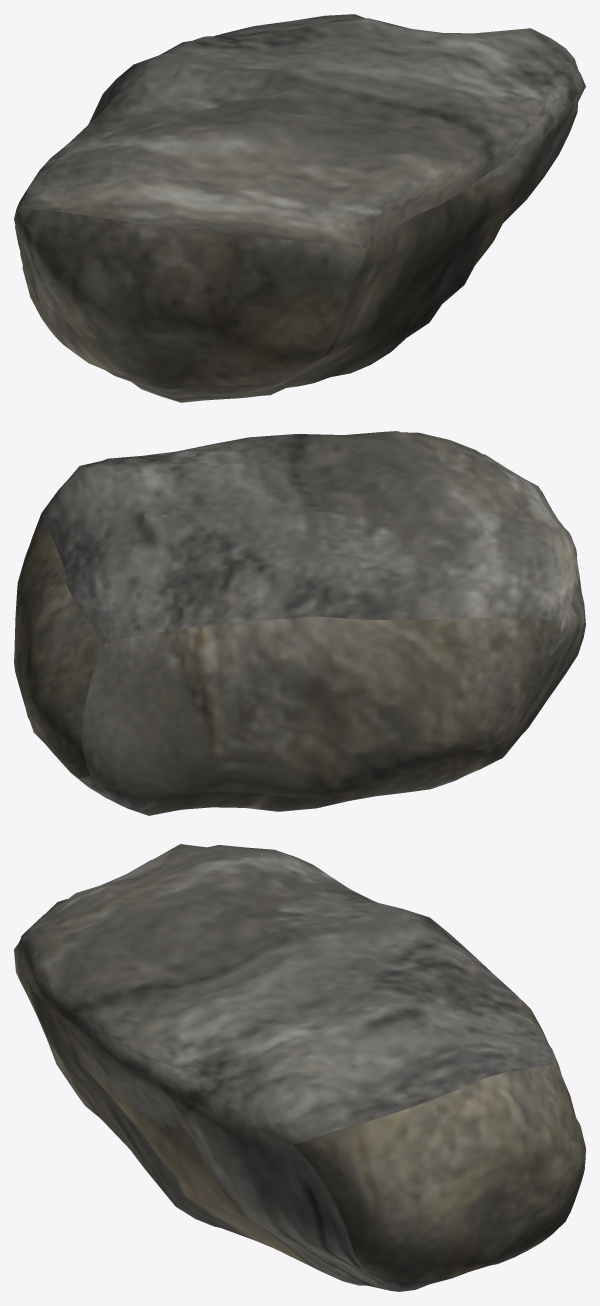
Rendered from Rock1.fbx.
The picture shows the model from 3 angles, top to bottom: view 1: azimuth 30°, elevation 25°; view 2: azimuth 150°, elevation 25°; view 3: azimuth 270°, elevation 25°; orthographic projection. The views are drawn at different scales.
Parts seen in each view (by area): view 1: Rock1; view 2: Rock1; view 3: Rock1.
Part boxes in pixels (<box>): Rock1: <box>14,14,585,402</box>; Rock1: <box>14,431,585,815</box>; Rock1: <box>14,844,585,1291</box>.
Size of the model in its own units: 20 by 10.26 by 17.66.
